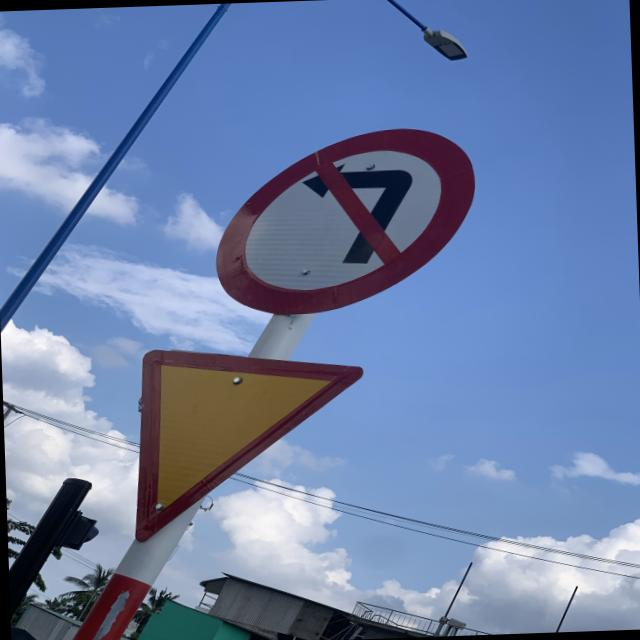Cam_Re_Trai: (209, 125, 483, 316)
Gioi_Han_Toc_Do_25: (130, 343, 372, 545)
